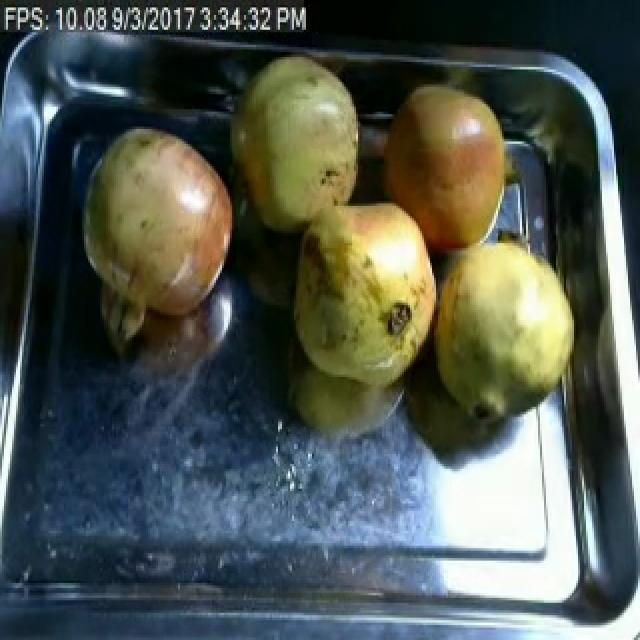fruit: (74, 116, 244, 340), (280, 186, 448, 402), (426, 216, 584, 434), (372, 77, 528, 270), (220, 50, 370, 243)
